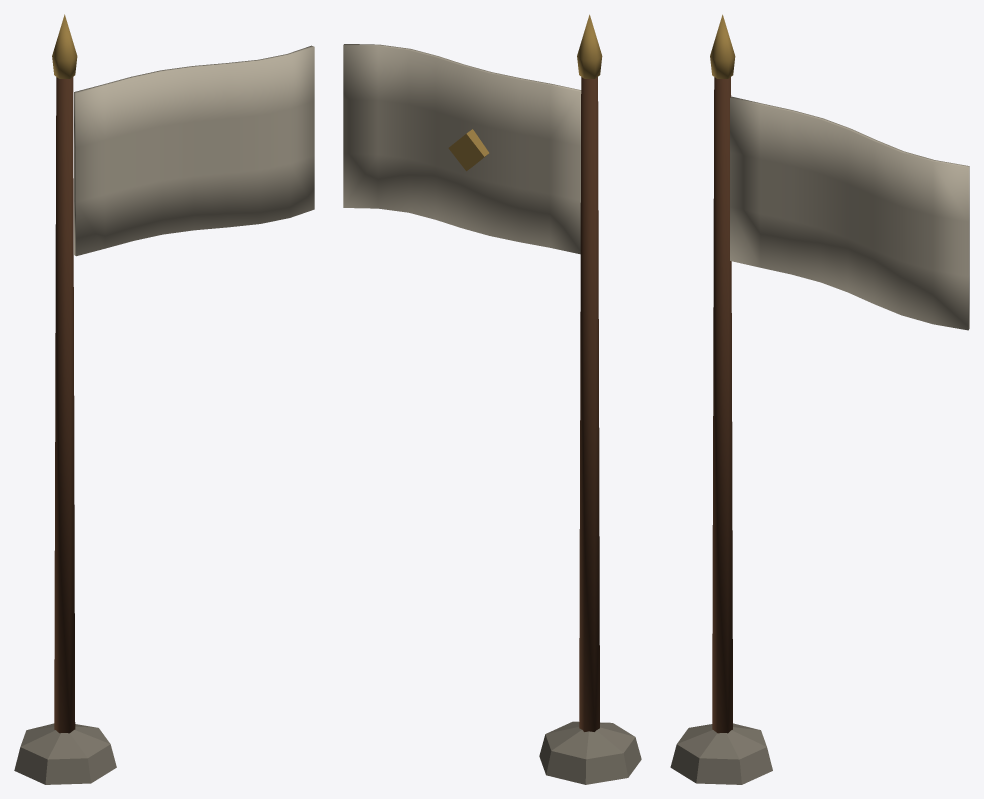
Rendered from banner_crown.glb.
3 views of the same model, side by side, from view 1: azimuth 30°, elevation 25°; view 2: azimuth 150°, elevation 25°; view 3: azimuth 330°, elevation 25° (orthographic).
Parts seen in each view (by area): view 1: banner_crown; view 2: banner_crown; view 3: banner_crown.
Part boxes in pixels (x1,y1,x2,y2): banner_crown: (14, 14, 314, 784); banner_crown: (343, 14, 641, 784); banner_crown: (670, 14, 969, 784).
Size of the model in its own units: 1.6 by 3.92 by 0.4752.
